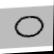no answer: (15, 15, 43, 39)
